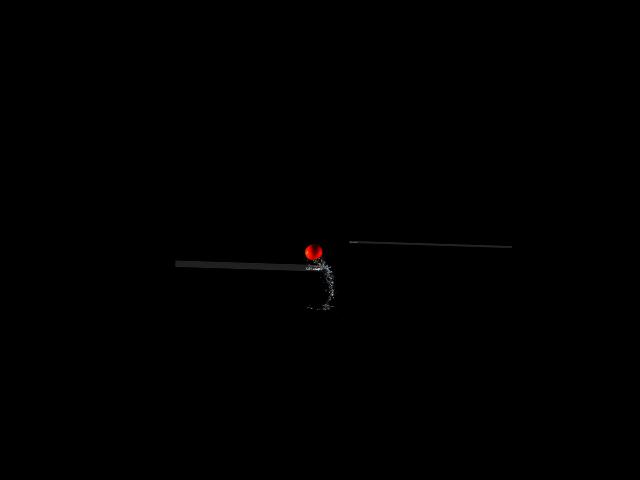tomato: (304, 244, 322, 260)
